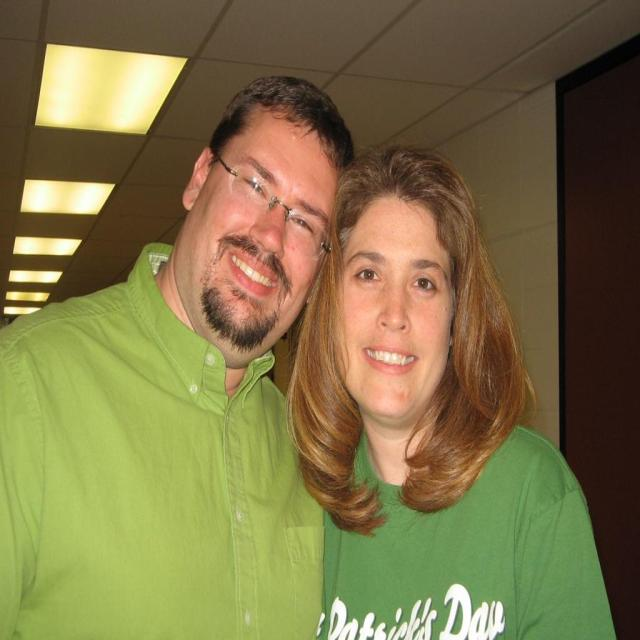Face: (202, 102, 340, 364), (337, 183, 460, 426)
